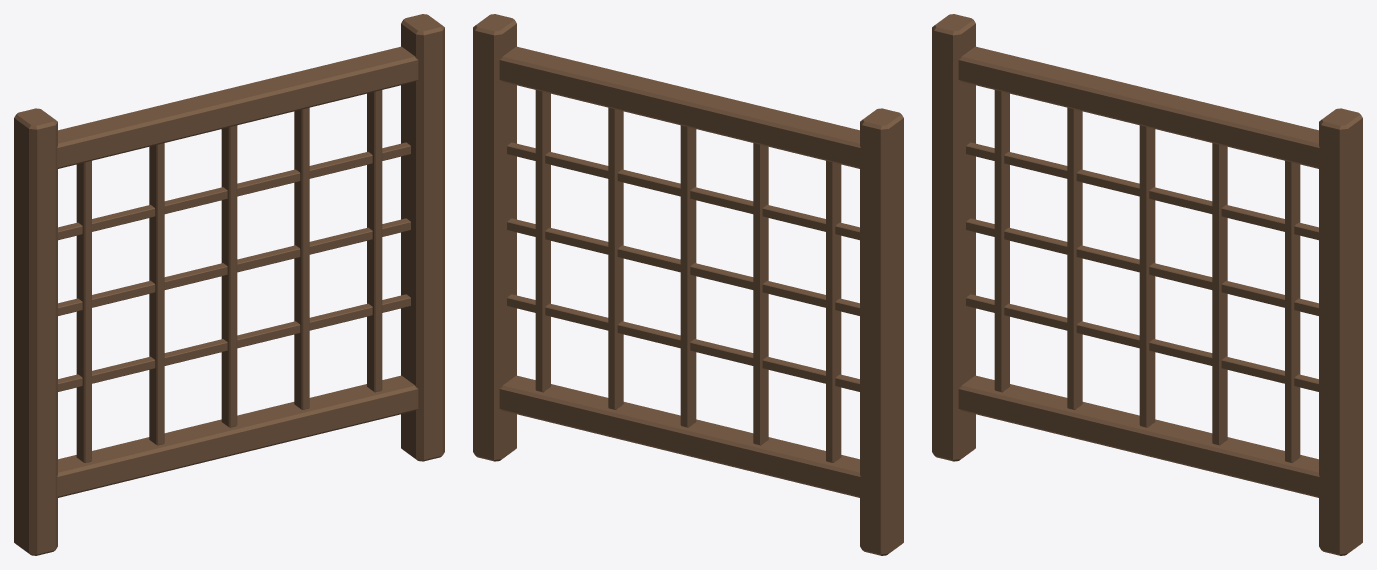
Rendered from garden-screen.glb.
3 renders of one model, left to right at view 1: azimuth 30°, elevation 25°; view 2: azimuth 150°, elevation 25°; view 3: azimuth 330°, elevation 25°, orthographic.
Parts seen in each view (by area): view 1: garden-screen__body; view 2: garden-screen__body; view 3: garden-screen__body.
Part boxes in pixels (<box>): garden-screen__body: <box>14,14,444,555</box>; garden-screen__body: <box>473,14,903,555</box>; garden-screen__body: <box>932,14,1362,555</box>.
Size of the model in its own units: 1.72 by 1.7 by 0.15.
